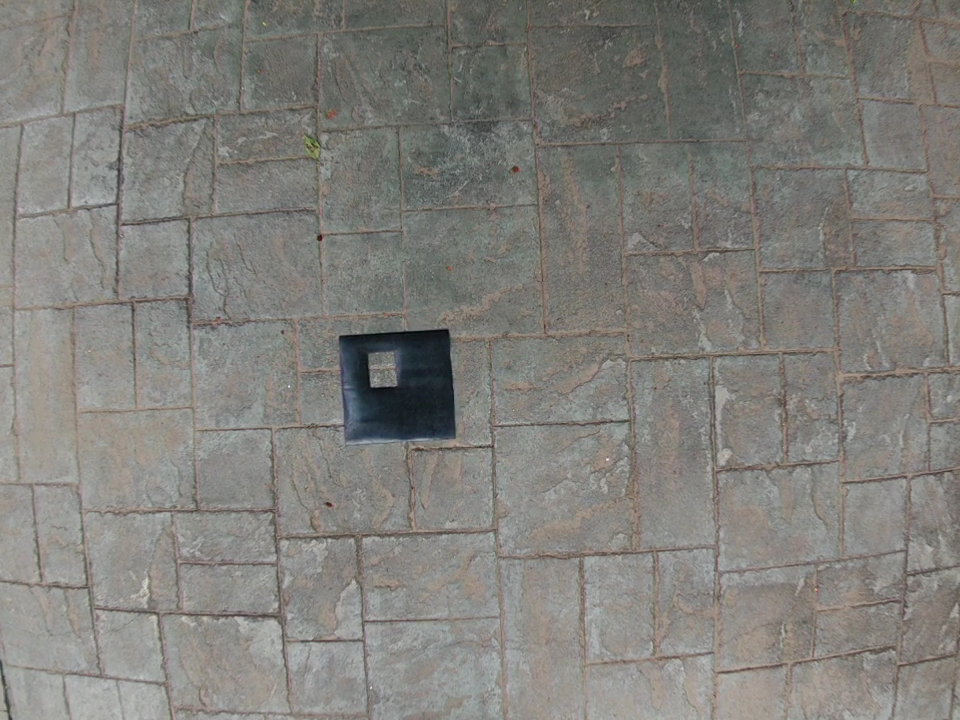qrcode: (339, 329, 454, 440)
